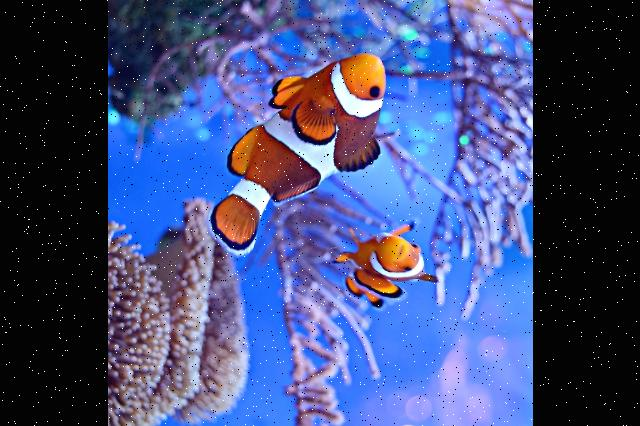Mulut: (358, 44, 392, 86), (381, 237, 409, 269)
Sirip Dada: (288, 92, 338, 152), (346, 262, 402, 304), (390, 212, 426, 242)
Sirip Ekor: (198, 189, 268, 261), (209, 120, 267, 180)
Sirip Perut: (250, 64, 312, 115), (324, 217, 370, 272)
Sirip Punggung: (260, 138, 382, 216), (400, 267, 446, 295)
